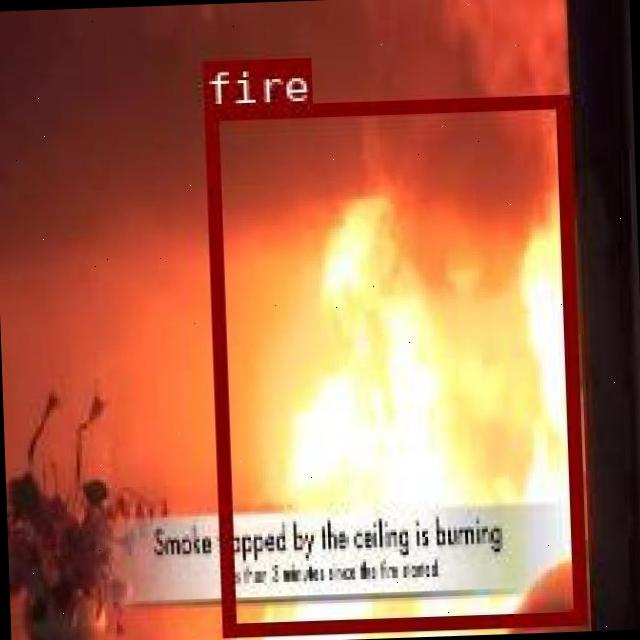fire: (203, 95, 582, 632)
